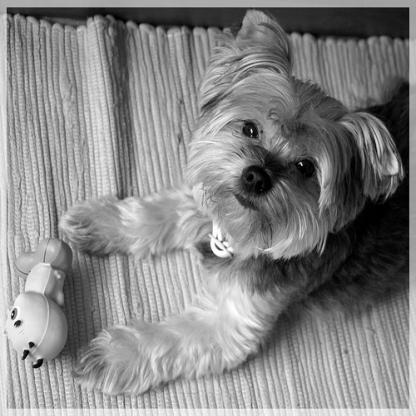dog: (59, 8, 415, 395)
